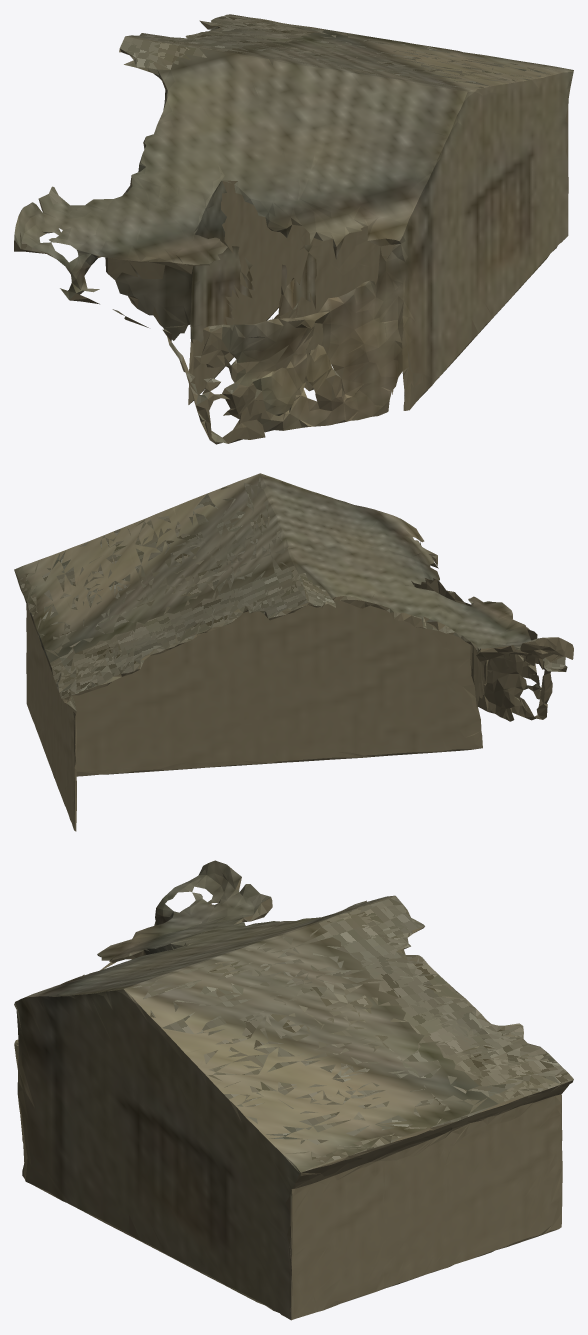
3 renders of one model, top to bottom at view 1: azimuth 30°, elevation 25°; view 2: azimuth 150°, elevation 25°; view 3: azimuth 270°, elevation 25°, orthographic. The views are drawn at different scales.
Parts seen in each view (by area): view 1: painted, wall, roof; view 2: wall, painted, roof; view 3: painted, wall, roof.
Boxes of the visible parts, x1,y1,x2,y2 form: painted: (14, 29, 573, 432); wall: (14, 21, 568, 444); roof: (20, 14, 556, 443); wall: (17, 538, 573, 831); painted: (14, 473, 531, 662); roof: (14, 474, 566, 710); painted: (14, 860, 498, 1319); wall: (15, 877, 573, 1320); roof: (82, 865, 573, 1172).
Size of the model in its own units: 2.82 by 1.13 by 2.34.
3 materials, 3 textured.
